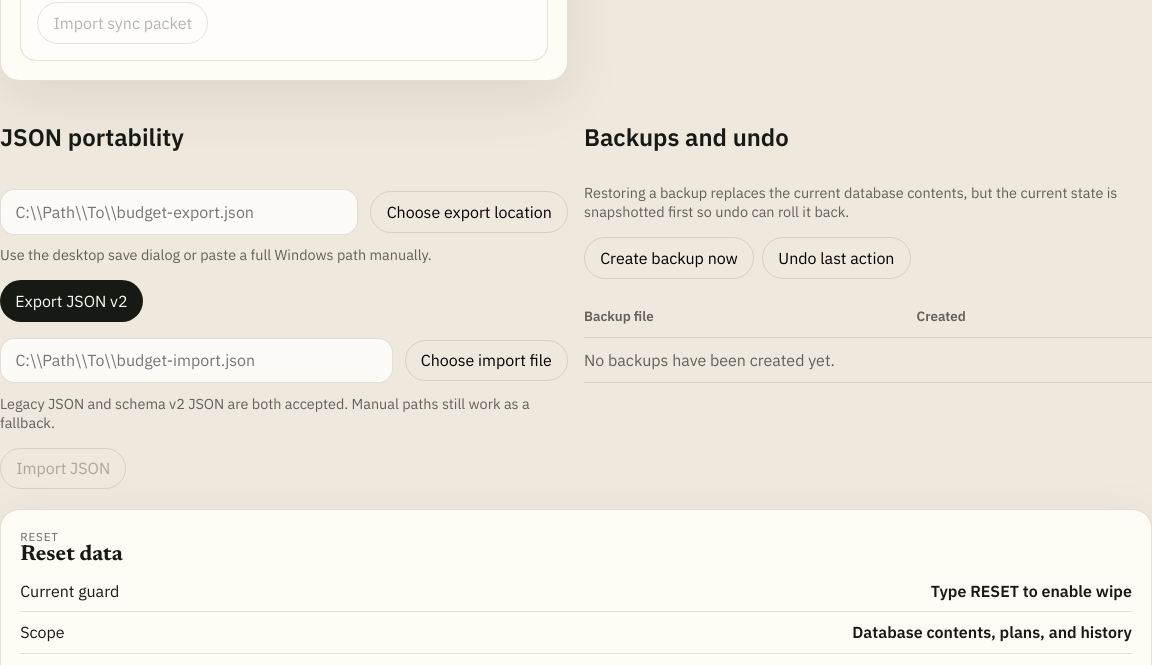
Test: SettingsPage › fills the import path from the file dialog and imports it
(page scrolled)
What coordinates should you click on to do the following:
click the button "Choose import file"
I would click on:
 (486, 360)
Its box is x1=405 y1=340 x2=568 y2=381.
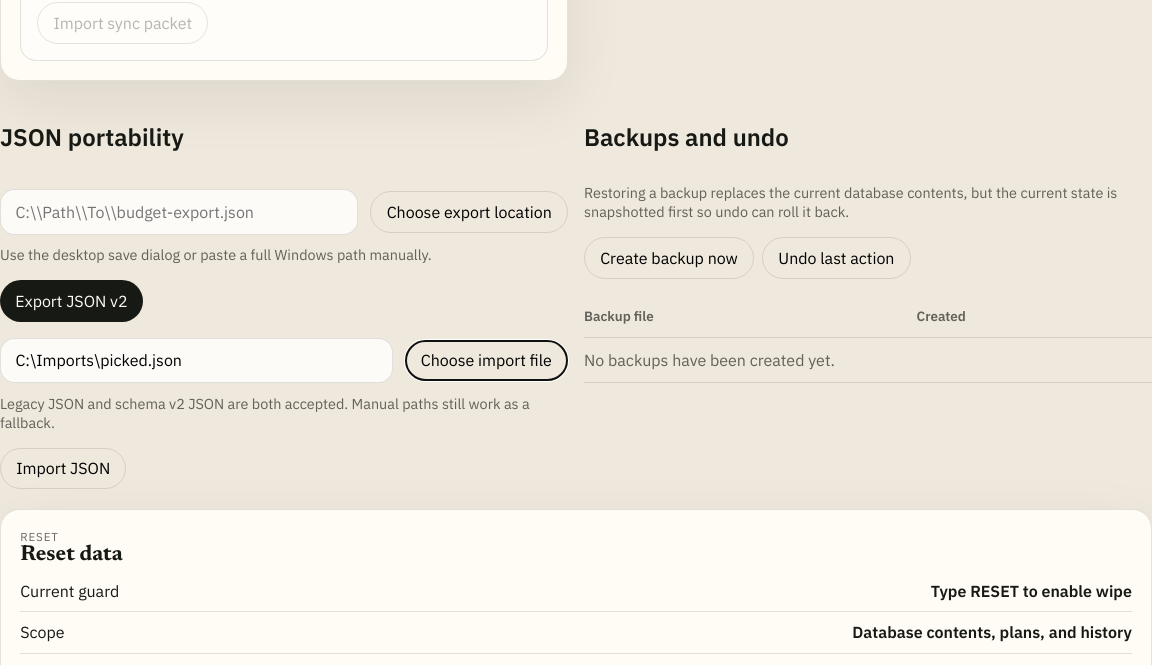
Result: the field named "Import JSON path" holds "C:\\Imports\\picked.json" at x1=0 y1=338 x2=393 y2=383
What coordinates should you click on to do the following:
click the button "Import JSON"
I would click on:
 (63, 468)
Its box is x1=0 y1=448 x2=126 y2=489.
(page scrolled)
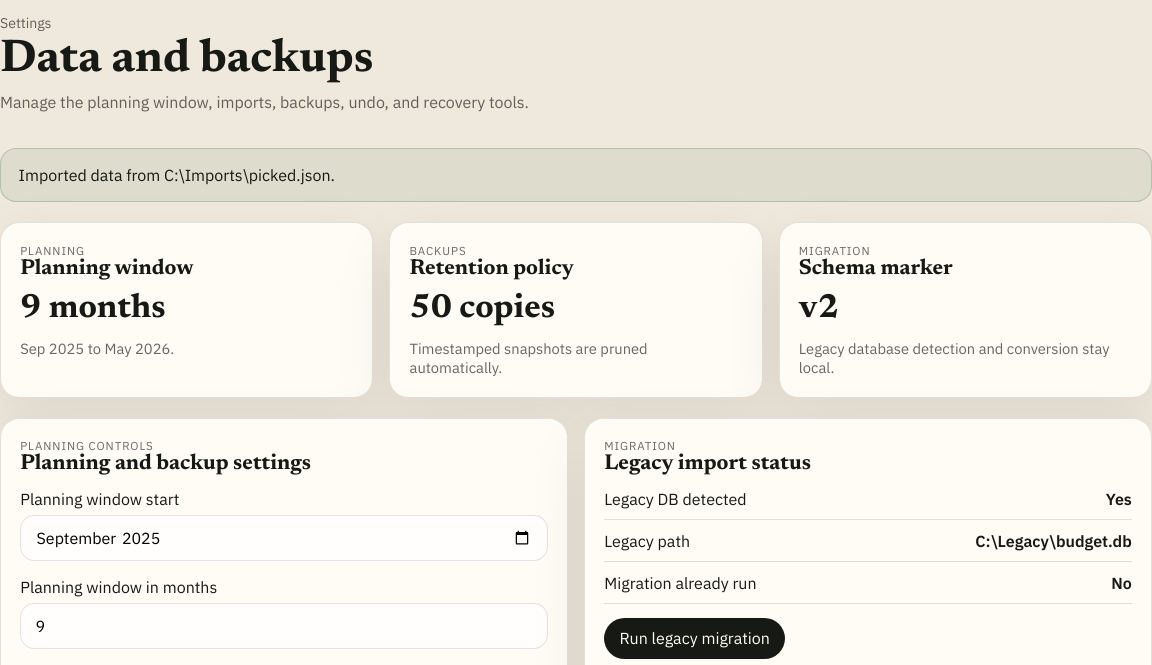
Result: the text "Imported data from C:\\Imports\\picked.json." is shown at x1=19 y1=165 x2=335 y2=185
